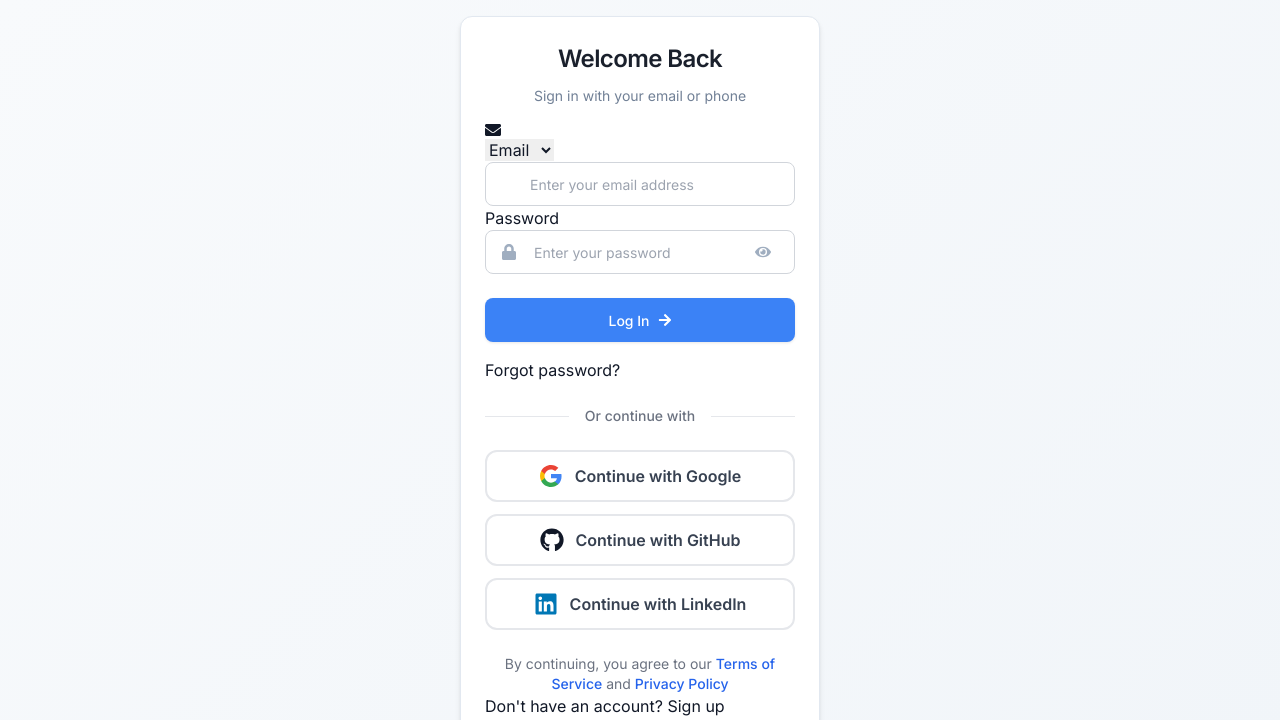
Test case: LoginPage › handles login error
# Fill in the form
Type "test@example.com" into the field labelled "Enter your email address".
click(640, 184); type("test@example.com")  # box [485, 162, 795, 206]
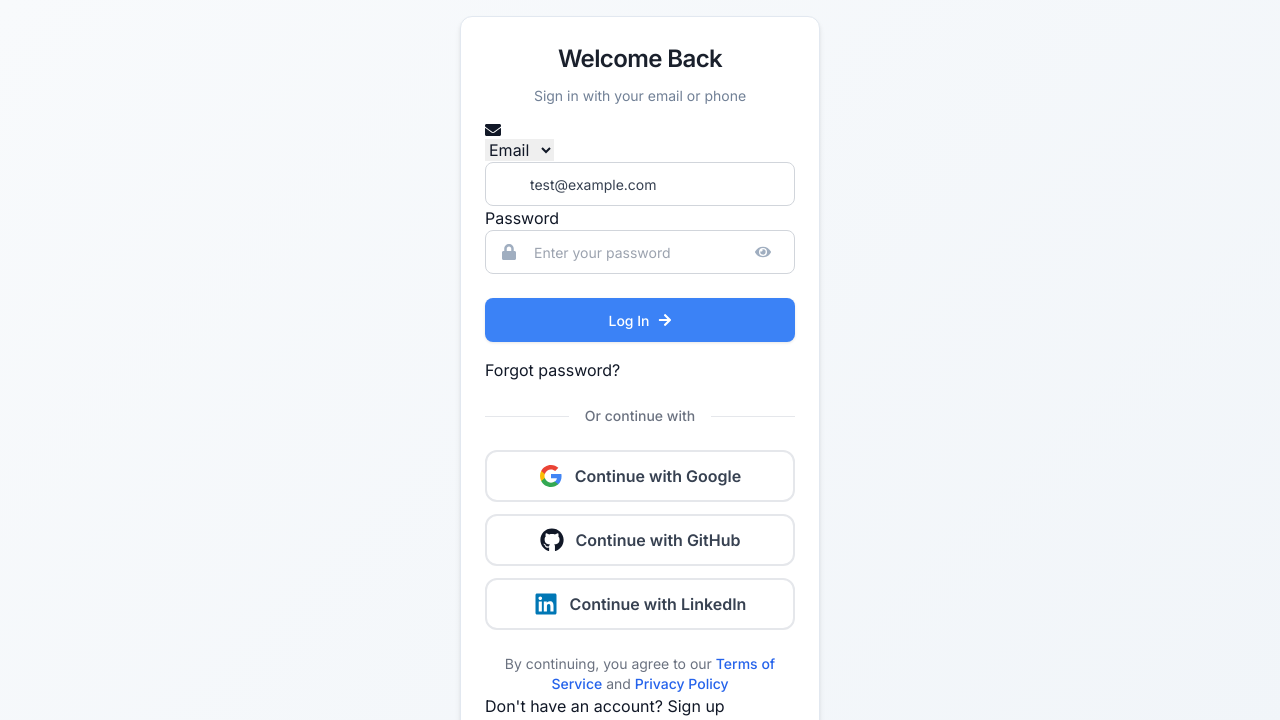
Type "wrongpassword" into the password field labelled "Password".
click(640, 252); type("wrongpassword")  # box [485, 230, 795, 274]
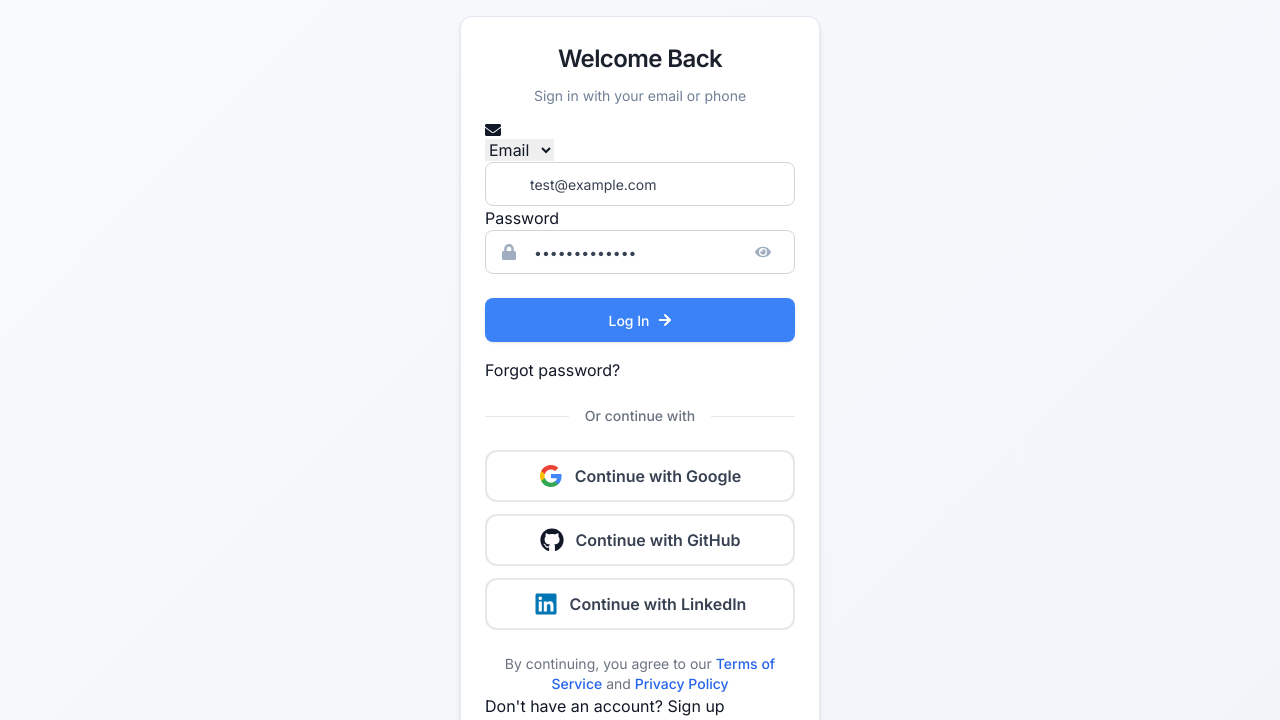
Click the button "Log In".
click(640, 320)  # box [485, 298, 795, 342]
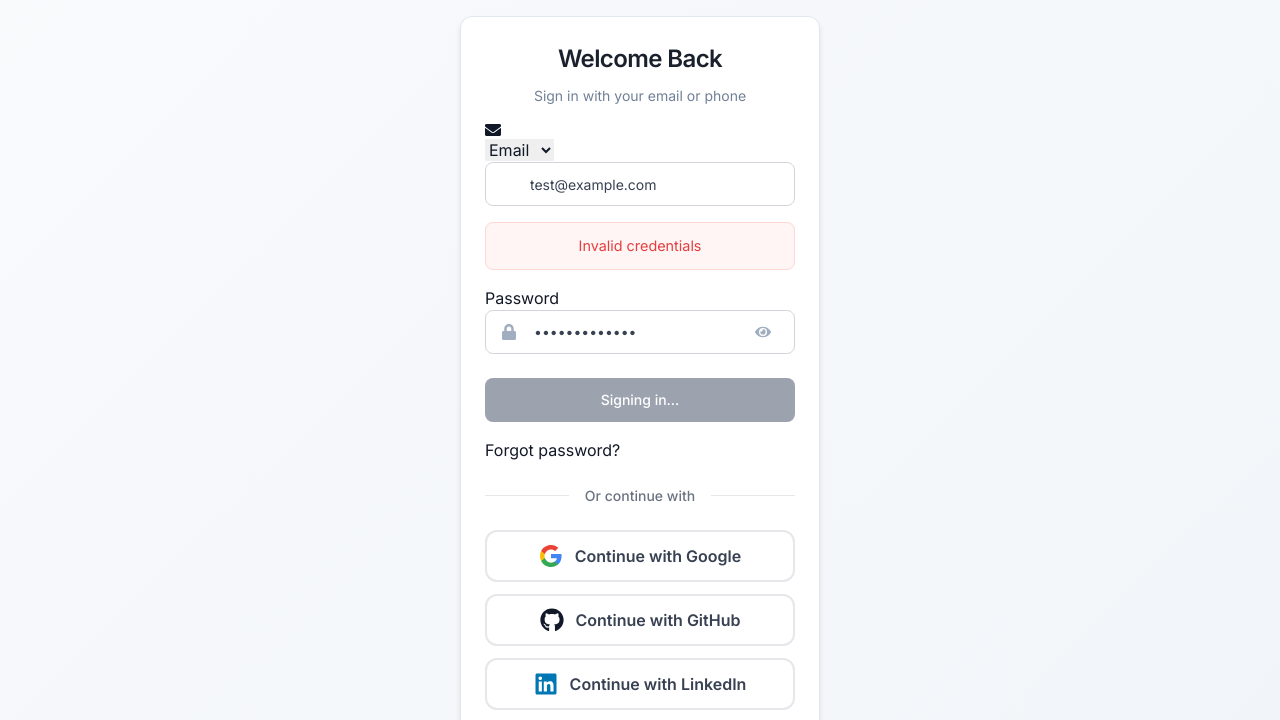
Check: the text "Invalid credentials" is shown, box [485, 222, 795, 270]
